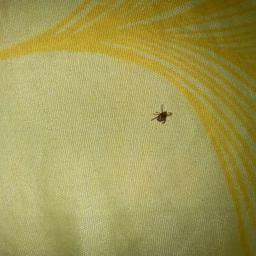Rhipicephalus sanguineus: (151, 104, 173, 125)
